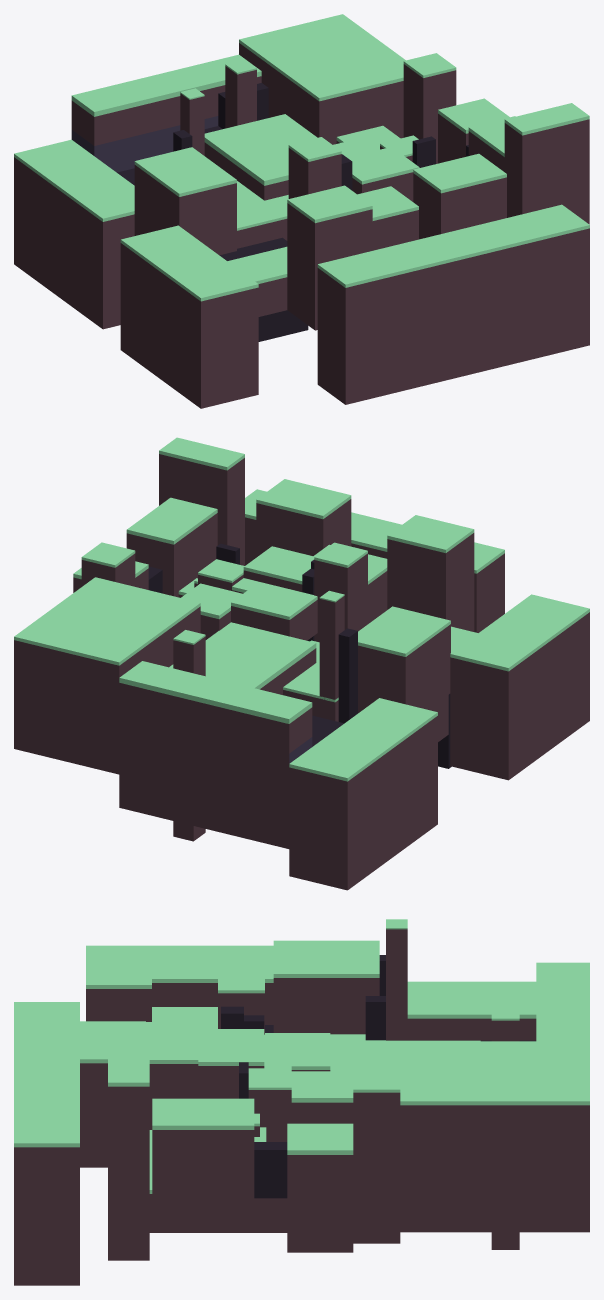
File: menu_map.fbx
The picture shows the model from 3 angles, top to bottom: view 1: azimuth 30°, elevation 25°; view 2: azimuth 150°, elevation 25°; view 3: azimuth 270°, elevation 25°; orthographic projection. The views are drawn at different scales.
Parts seen in each view (by area): view 1: Cube.240, Cube.227, Cube.234, Cube.228, Cube.230, Cube.236, Cube.222, Cube.221, Cube.239, Cube.215, Cube.218, Cube.216 (+13 smaller); view 2: Cube.230, Cube.228, Cube.234, Cube.227, Cube.222, Cube.221, Cube.236, Cube.238, Cube.239, Cube.240, Cube.218, Cube.210 (+11 smaller); view 3: Cube.228, Cube.240, Cube.238, Cube.222, Cube.236, Cube.214, Cube.215, Cube.234, Cube.227, Cube.239, Cube.221, Cube.230 (+14 smaller).
Part boxes in pixels (x1,y1,x2,y2): Cube.240: (317, 204, 589, 404); Cube.227: (120, 225, 258, 408); Cube.234: (14, 139, 134, 329); Cube.228: (239, 14, 405, 144); Cube.230: (71, 54, 261, 172); Cube.236: (504, 103, 589, 224); Cube.222: (134, 147, 236, 255); Cube.221: (287, 185, 372, 330); Cube.239: (413, 153, 506, 239); Cube.215: (403, 53, 456, 163); Cube.218: (223, 130, 317, 200); Cube.216: (288, 137, 341, 198); Cube.230: (119, 661, 312, 848); Cube.228: (14, 577, 200, 774); Cube.234: (289, 698, 437, 890); Cube.227: (450, 594, 589, 780); Cube.222: (358, 606, 450, 741); Cube.221: (387, 515, 474, 631); Cube.236: (159, 437, 244, 565); Cube.238: (126, 497, 217, 597); Cube.239: (256, 479, 351, 557); Cube.240: (245, 489, 504, 632); Cube.218: (205, 622, 316, 694); Cube.210: (231, 582, 317, 640); Cube.228: (400, 1041, 589, 1232); Cube.240: (14, 1002, 79, 1285); Cube.238: (152, 1098, 254, 1210); Cube.222: (273, 940, 379, 1034); Cube.236: (108, 1043, 149, 1260); Cube.214: (287, 1123, 353, 1252); Cube.215: (353, 1070, 400, 1243); Cube.234: (407, 981, 536, 1040); Cube.227: (86, 945, 273, 1024); Cube.239: (80, 1021, 145, 1167); Cube.221: (86, 951, 151, 1021); Cube.230: (536, 962, 589, 1041).
Bounding box in the file's own units: 10922 × 5895 × 11569.
